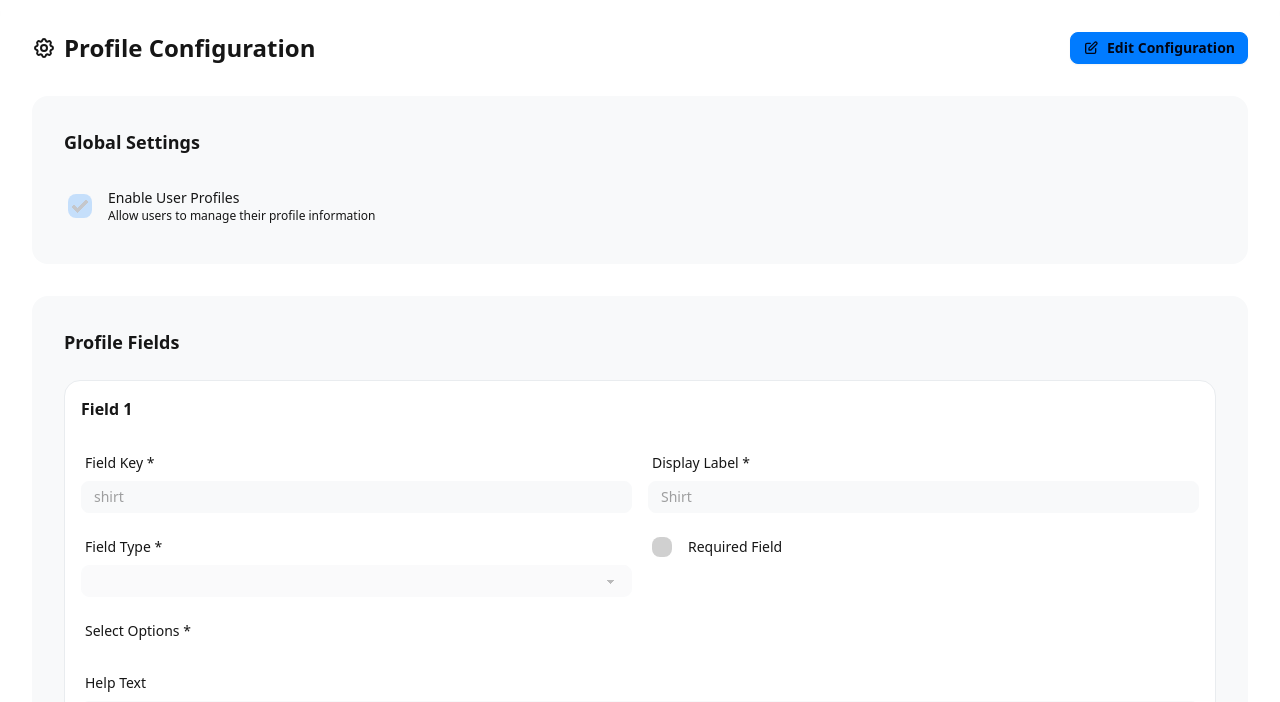
Test: validation › refuses a select field with no options
The width and height of the screenshot is (1280, 702).
Step 1. Click the button "Edit Configuration" → click(1159, 48), box [1070,32,1248,64]
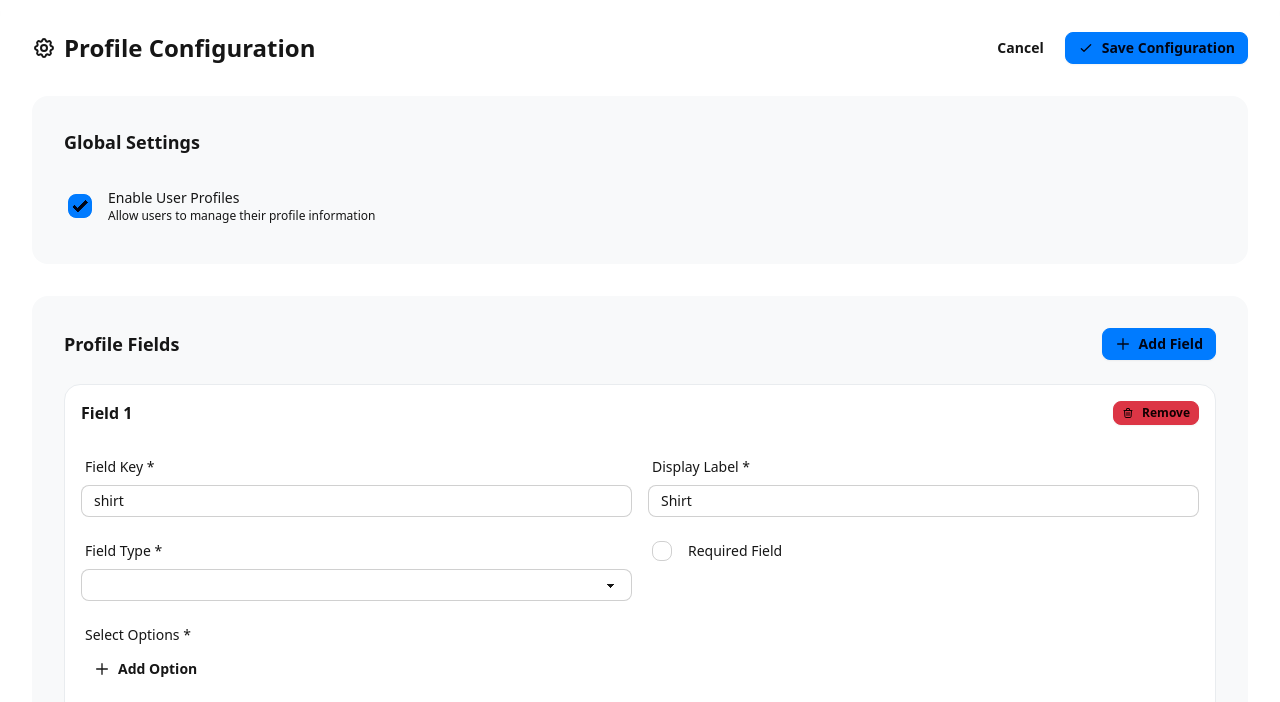
Step 2. Click the button "Save Configuration" → click(1156, 48), box [1065,32,1248,64]
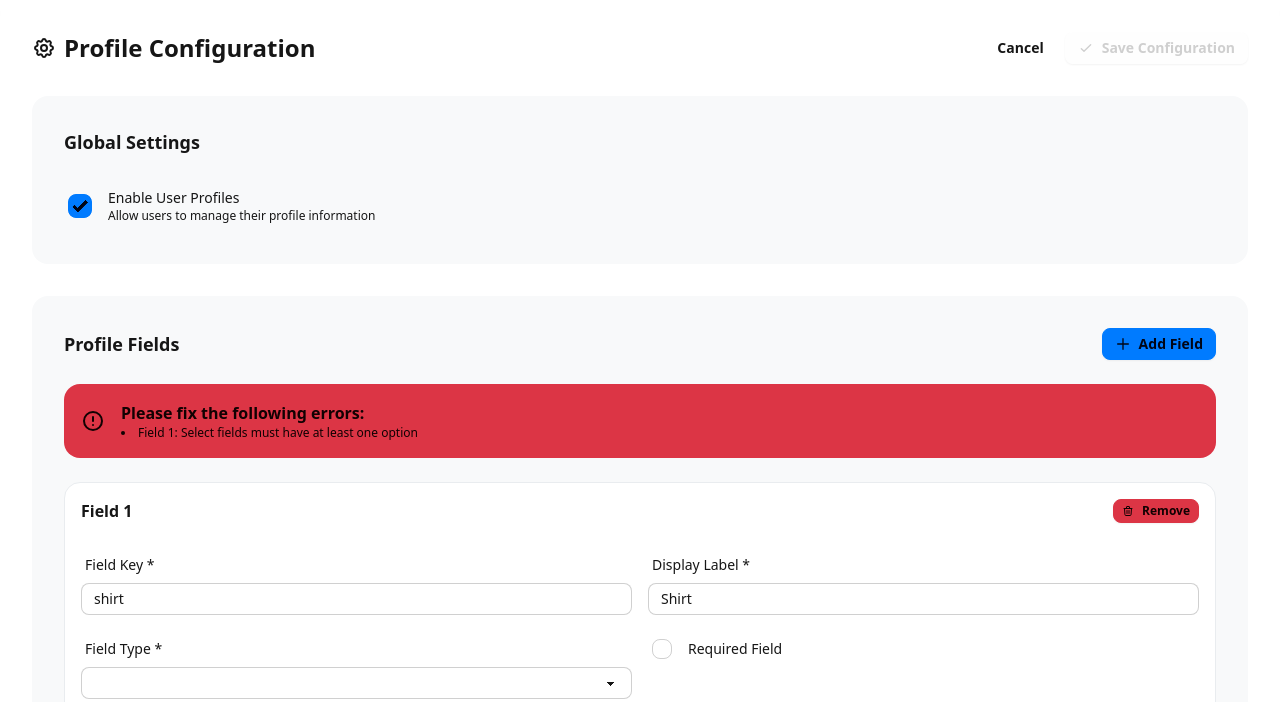
Now the element with class "alert-error" shows "at least one option", box [138,424,418,441]
